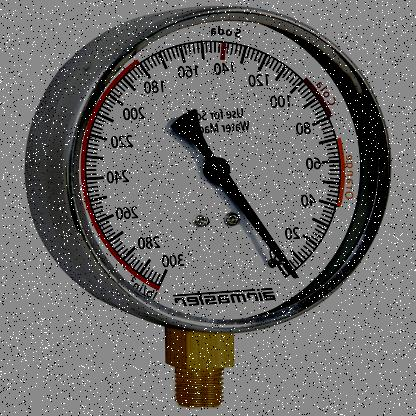needle: (219, 175, 298, 280)
